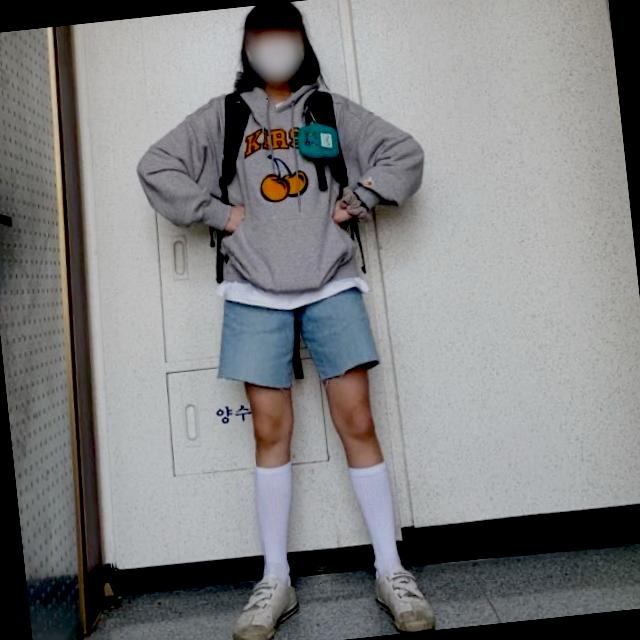hoodies: (126, 58, 438, 315)
shortpants: (208, 275, 380, 394)
